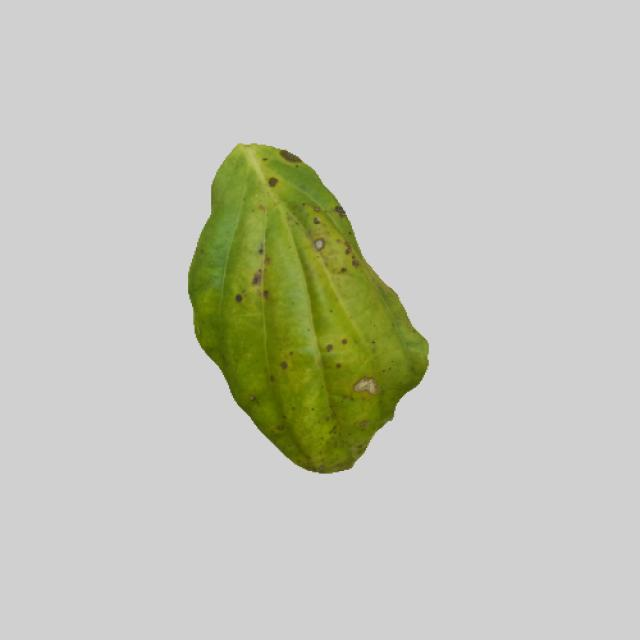yellow-mottle-virus: (177, 138, 430, 471)
